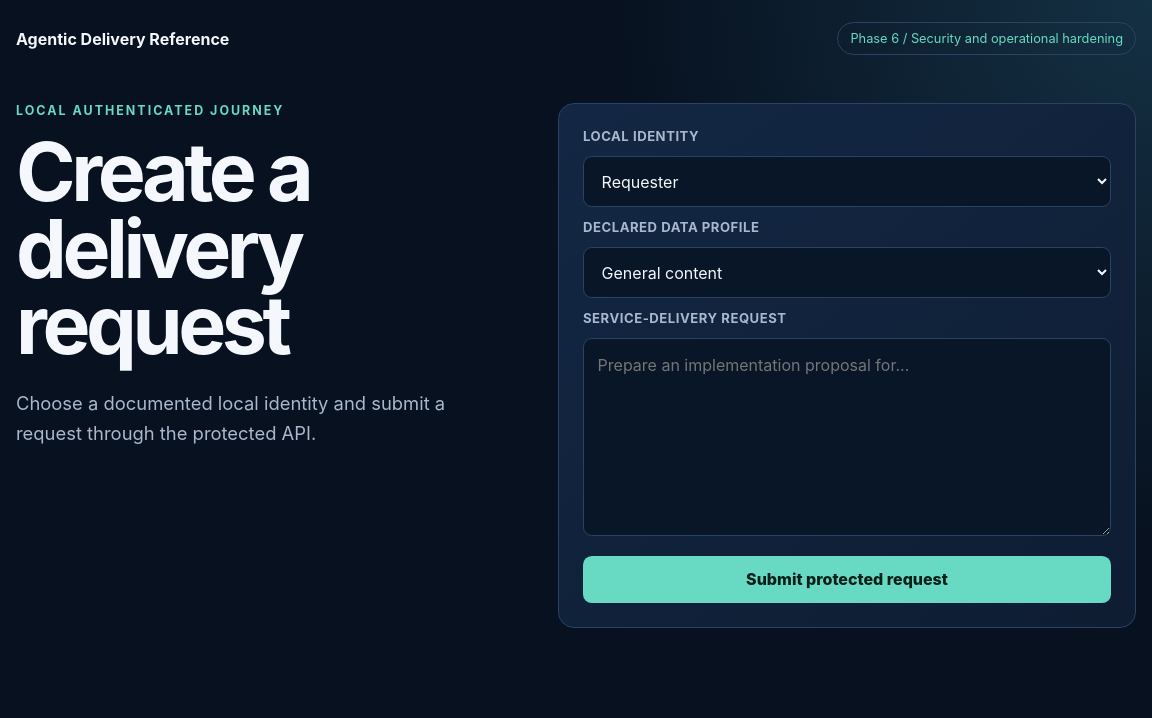
Test: governed delivery request page › submits declared data context and renders the policy decision
Expected: the text "Phase 6 / Security and operational hardening" is shown, [837,22,1136,55]
Select "Administrator" in the dropdown labelled "Local identity": (847,182) [583,156,1111,207]
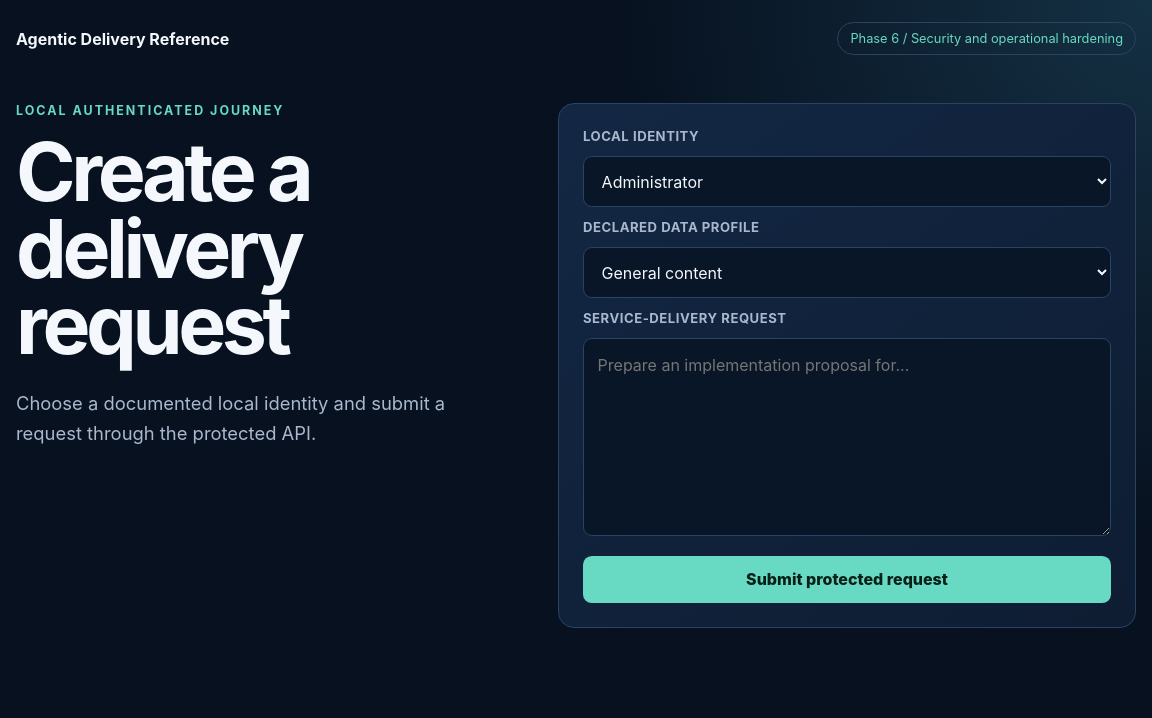
Select "Health information" in the dropdown labelled "Declared data profile": (847,273) [583,247,1111,298]
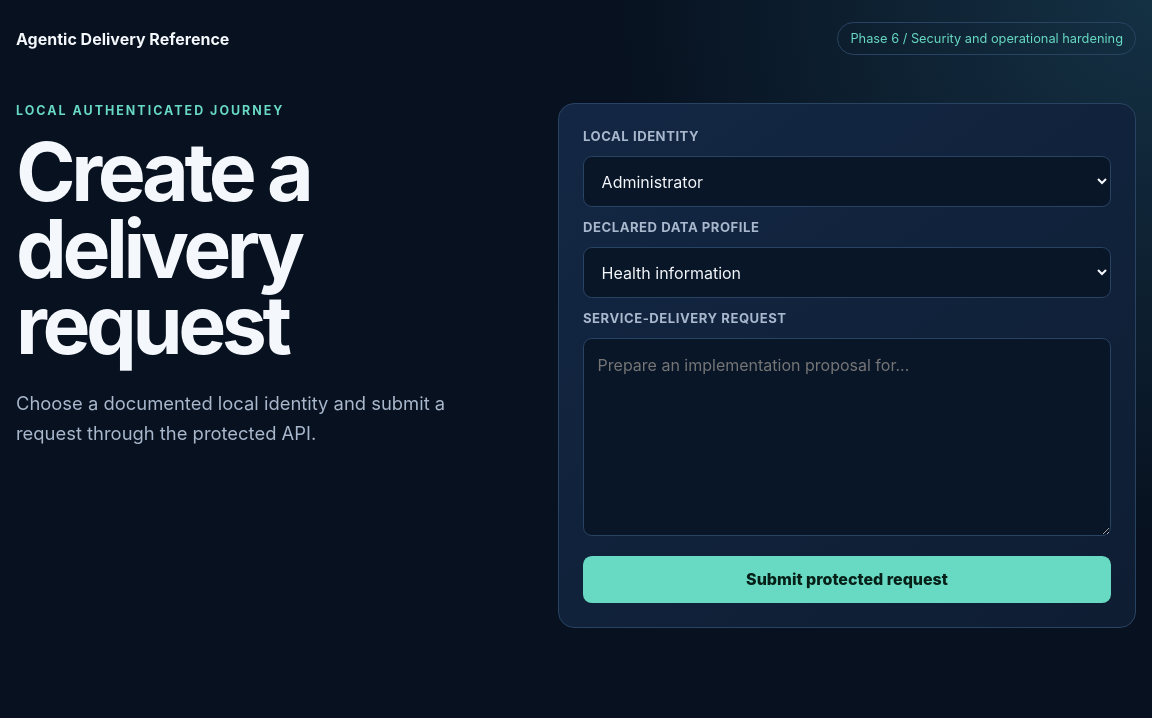
In the text box labelled "Service-delivery request": (847,437) [583,338,1111,536], type "Prepare a delivery proposal"
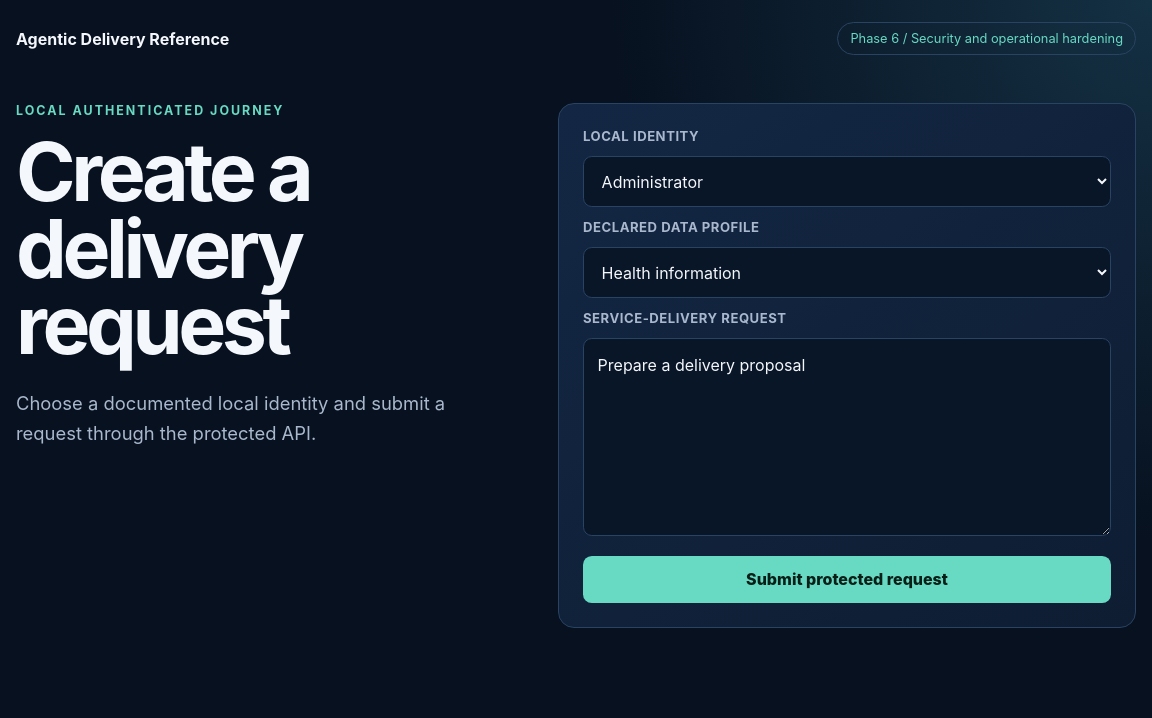
Submit the form, box [558,103,1136,628]
(page scrolled)
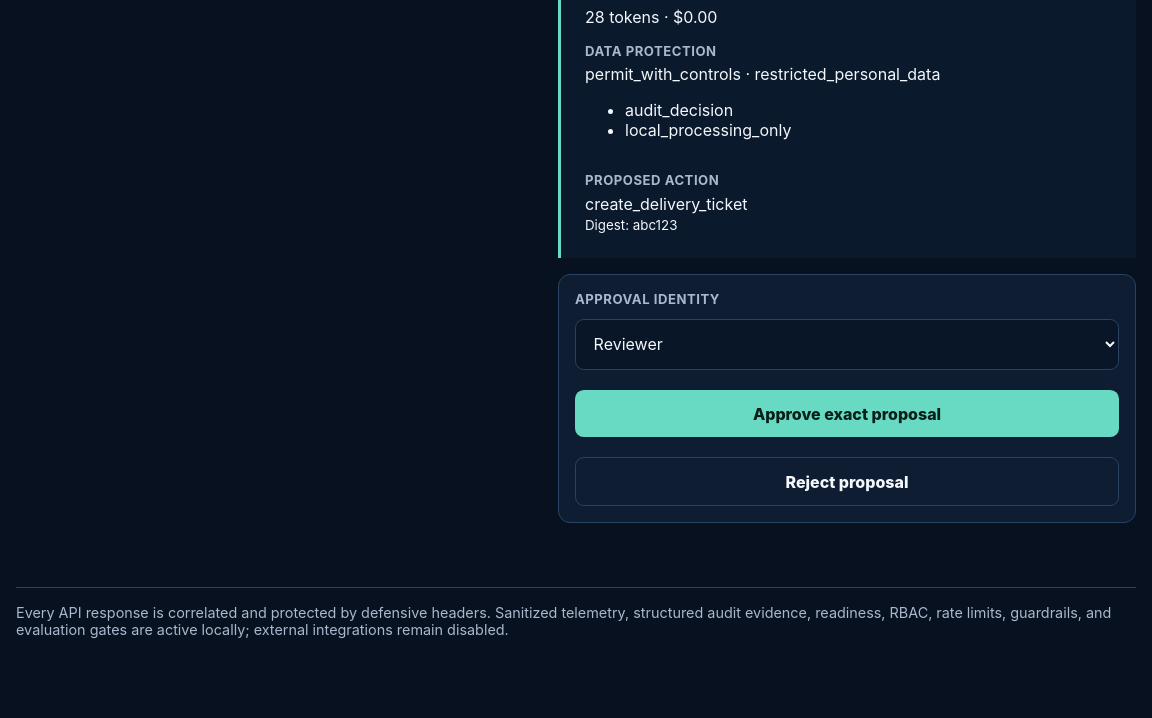
Expected: the text "28 tokens · $0.00" is shown, [585,7,717,27]
Expected: the text "permit_with_controls" is shown, [585,64,741,84]
Expected: the list item "local_processing_only" is shown, [625,120,791,140]
